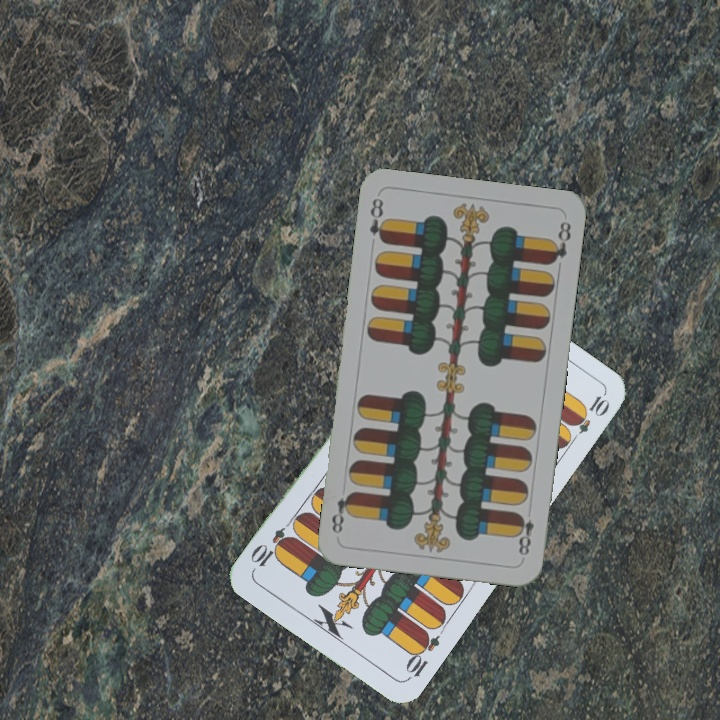E10: (401, 627, 442, 683)
E8: (365, 194, 390, 247), (512, 509, 537, 559)
